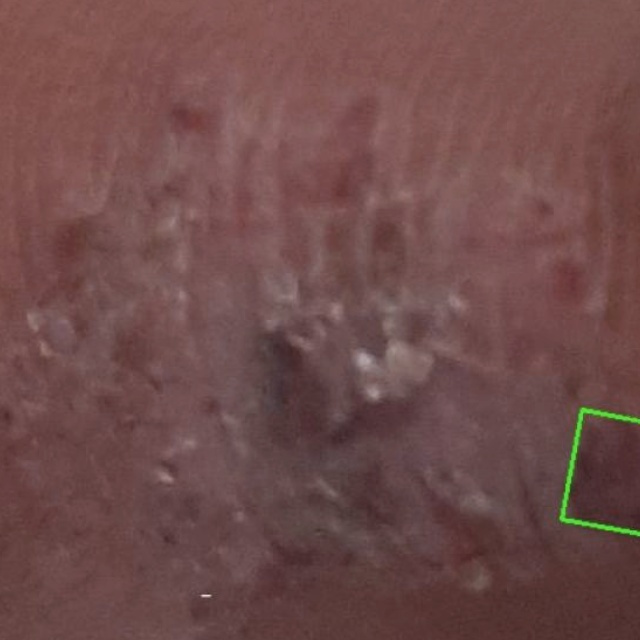Contact Dermatitis: (562, 410, 639, 534)
